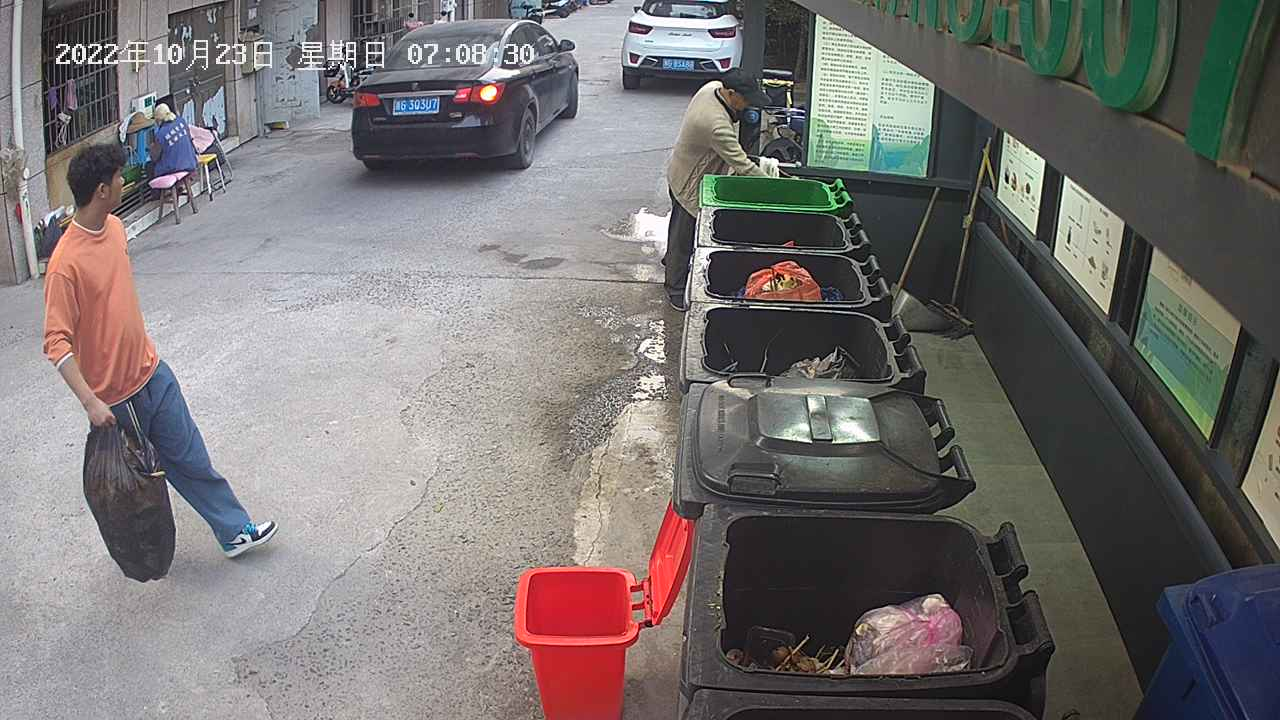garbage-bag: (78, 412, 180, 585)
person: (657, 61, 779, 314)
worker: (34, 140, 285, 585), (142, 100, 202, 189)
